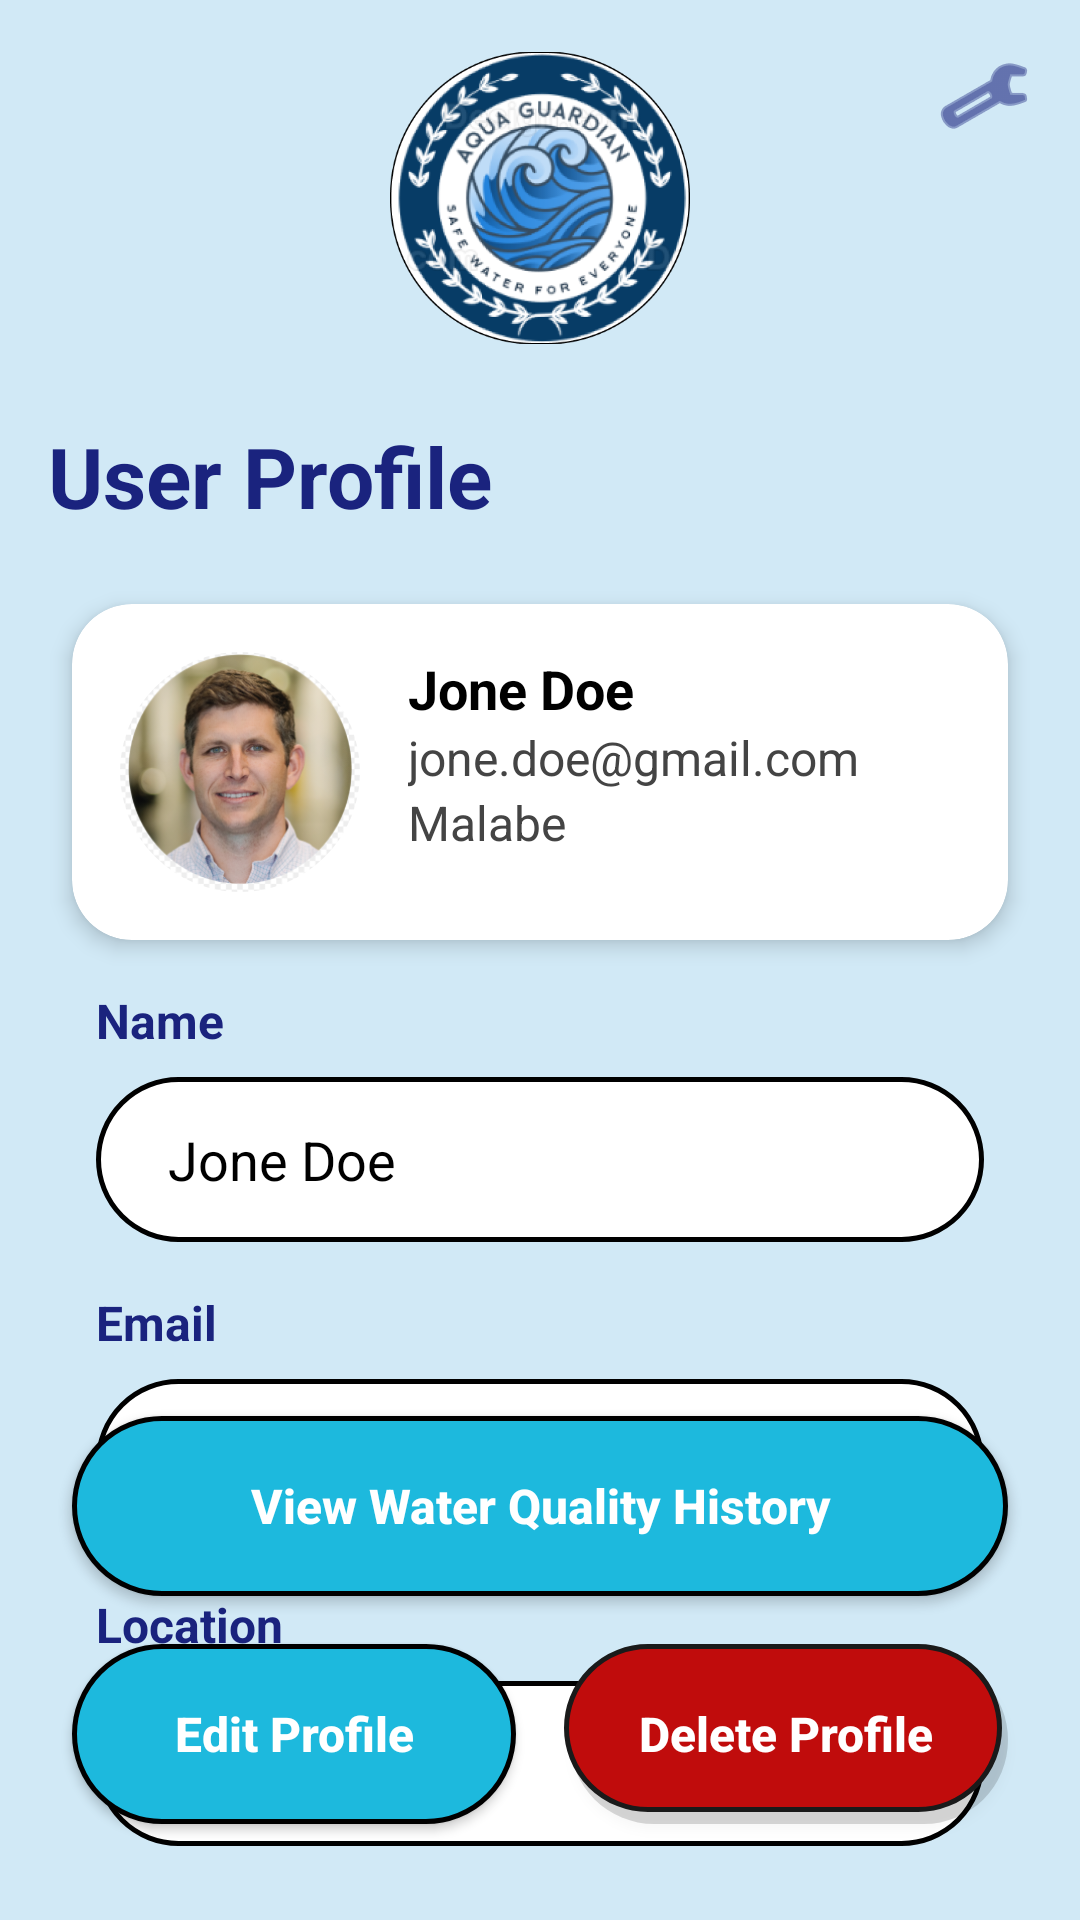

Where icons sit on this 1080*1920 app screen, as [x1, y1, x2, y2]:
Settings: [941, 63, 1027, 129]
